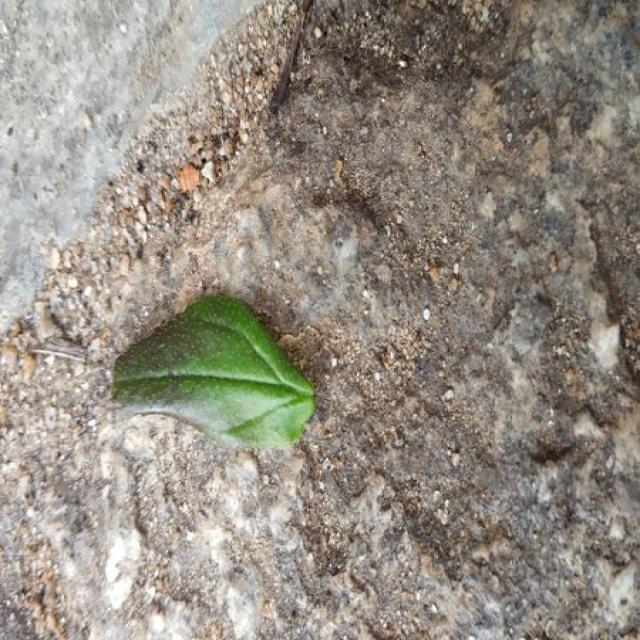Astma_weed: (113, 296, 315, 447)
